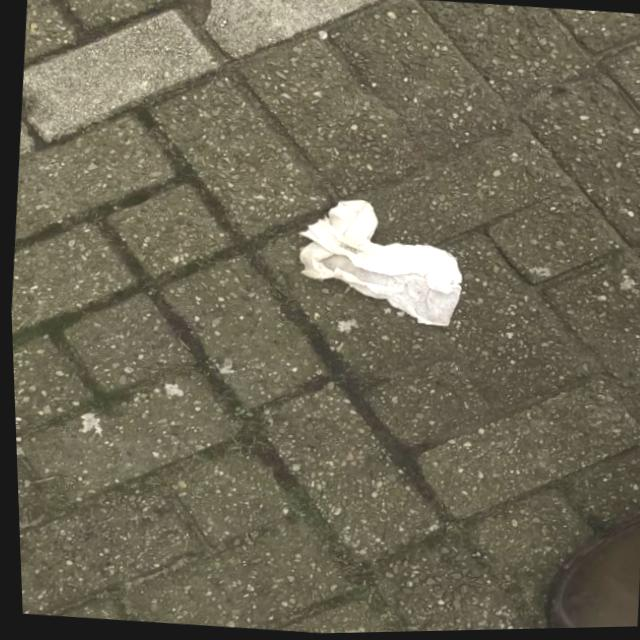Paper: (286, 191, 468, 332)
